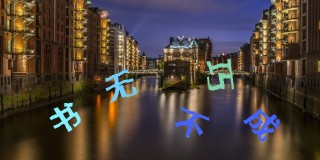不: (173, 104, 210, 137)
书: (48, 101, 83, 133)
巧: (204, 57, 235, 93)
成: (241, 106, 281, 143)
无: (104, 68, 139, 102)
